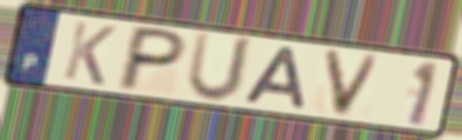1: (407, 60, 442, 130)
A: (240, 44, 309, 112)
K: (59, 19, 119, 89)
P: (112, 23, 192, 93)
U: (182, 29, 257, 106)
V: (320, 46, 386, 120)
